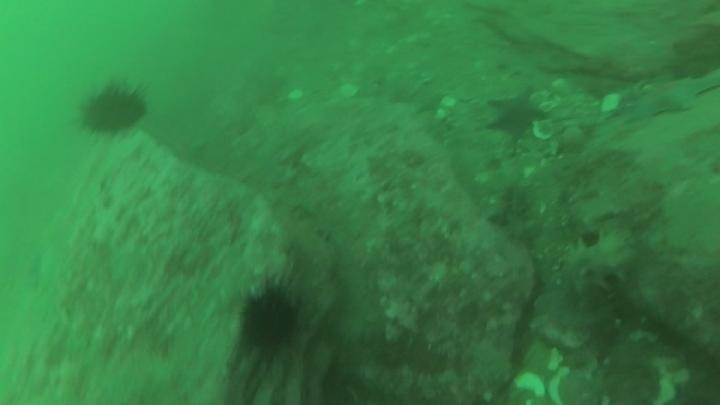echinus: (234, 279, 306, 360), (75, 78, 151, 140)
holothurian: (555, 227, 638, 295)
starfish: (625, 70, 718, 122), (483, 86, 546, 141)
